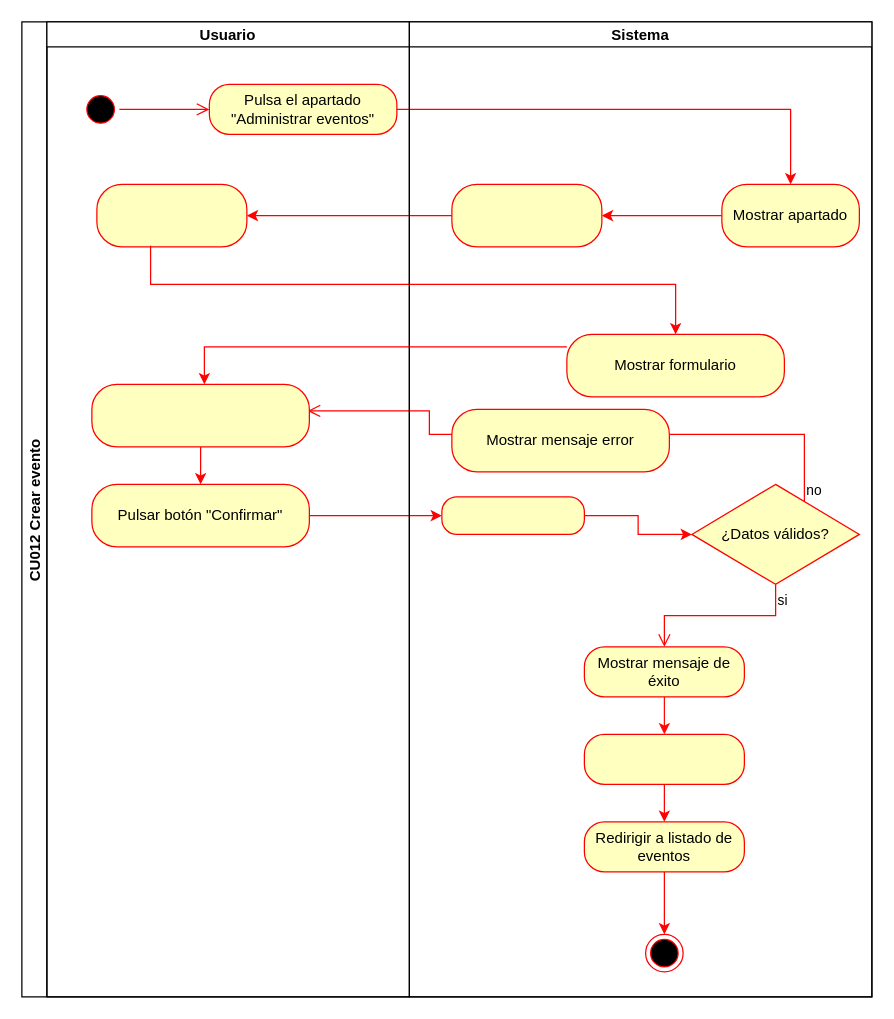
Some shapes in this 894 by 1019 pixel diagram are drawn without their labels. The centre of each missing label's shape, as x and y in pixels:
Guardar evento: [663,758]
Llenar formulario: [200,415]
Mostrar listado eventos: [526,215]
Pulsar botón "Crear evento": [171,215]
Validar datos: [512,515]
